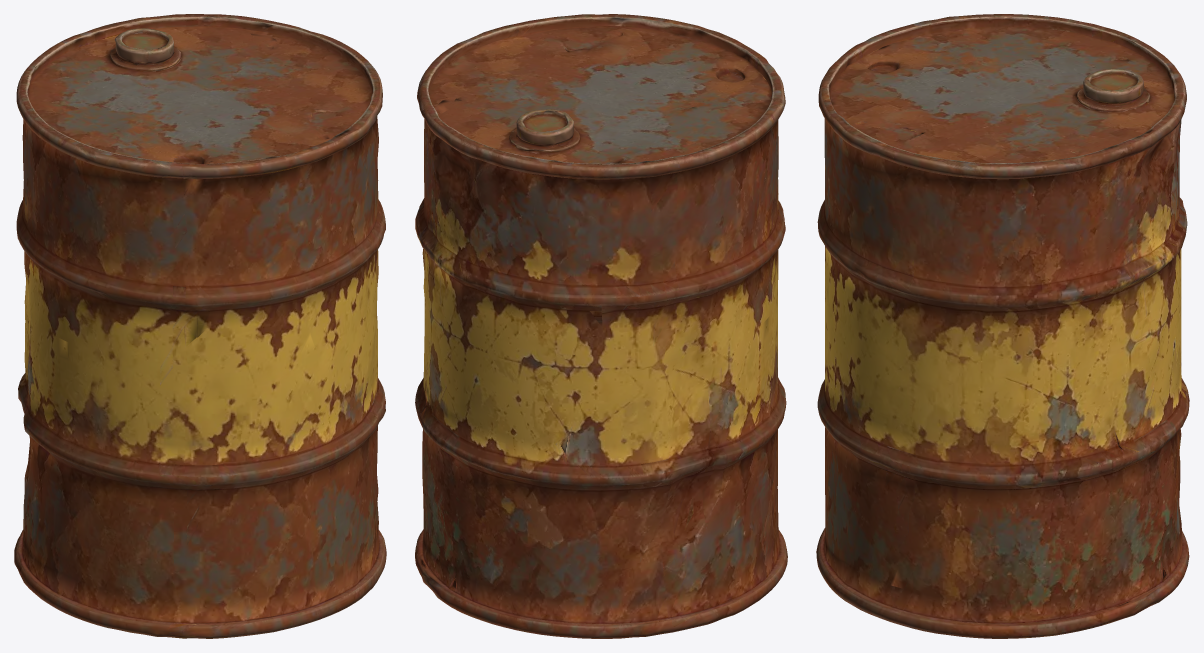
The model's file is town_drum.glb.
3 views of the same model, side by side, from view 1: azimuth 30°, elevation 25°; view 2: azimuth 150°, elevation 25°; view 3: azimuth 270°, elevation 25° (orthographic).
Bounding box in the file's own units: 0.668 × 0.9502 × 0.668.
1 material, 1 textured.
